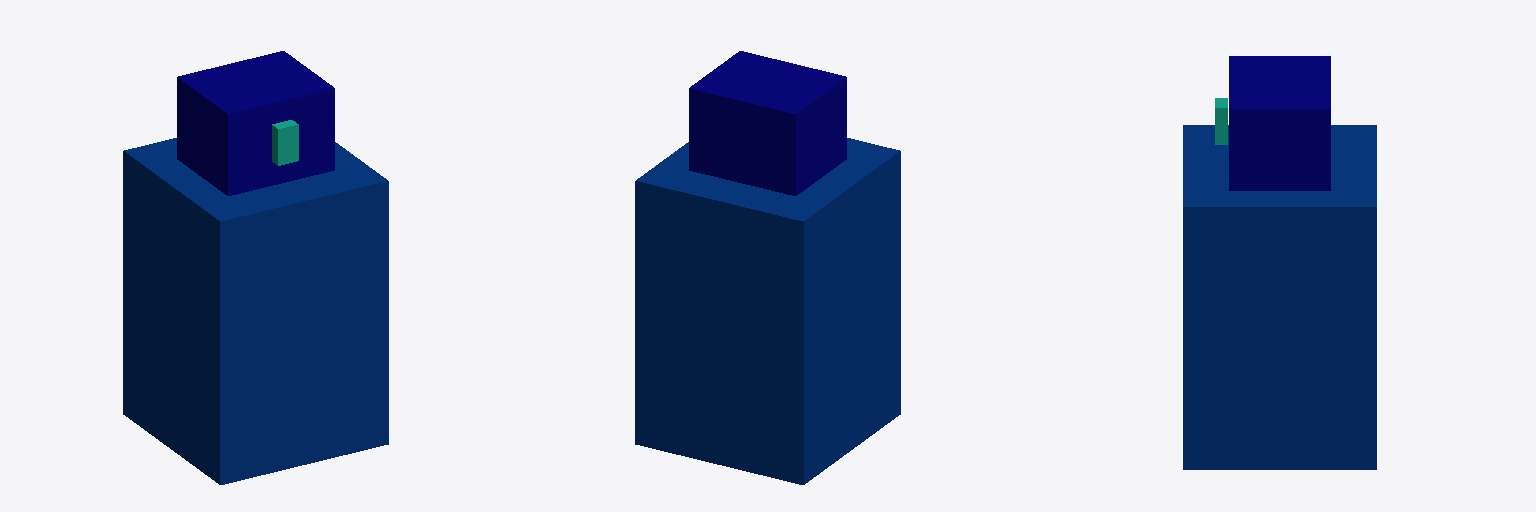
Rendered from body.obj.
3 renders of one model, left to right at view 1: azimuth 30°, elevation 25°; view 2: azimuth 150°, elevation 25°; view 3: azimuth 270°, elevation 25°, orthographic.
Parts seen in each view (by area): view 1: Box001, Box004, Box007; view 2: Box001, Box004; view 3: Box001, Box004, Box007.
Part boxes in pixels (x1,y1,x2,y2): Box001: (123,138,388,484); Box004: (177,51,334,195); Box007: (272,120,298,165); Box001: (635,138,900,484); Box004: (689,51,846,195); Box001: (1183,125,1376,469); Box004: (1229,56,1330,190); Box007: (1215,98,1227,144).
Size of the model in its own units: 10 by 19.73 by 10.